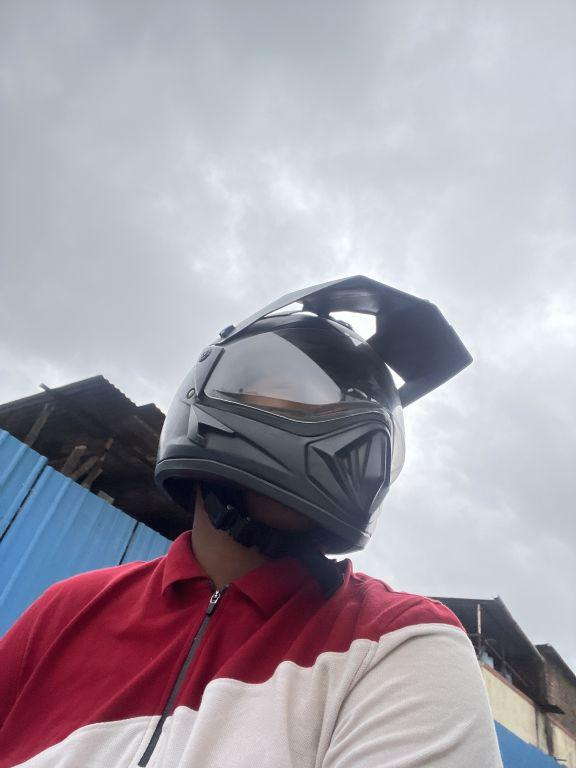helmet: (137, 249, 478, 587)
